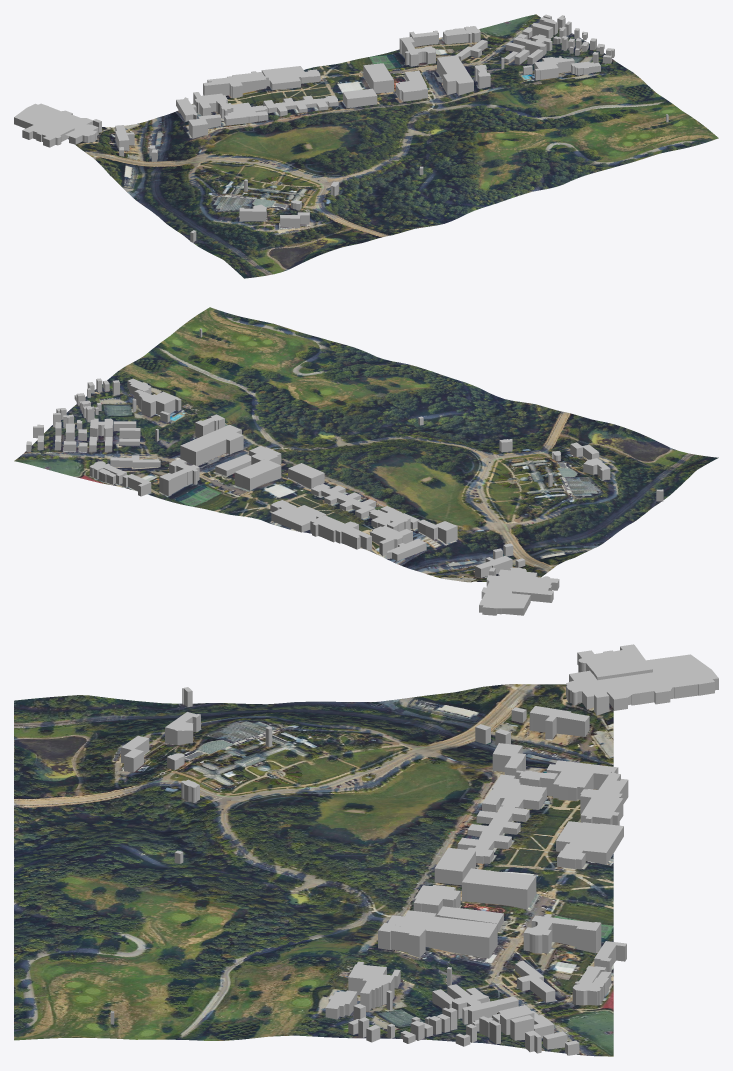
Rendered from schenley_farms.obj.
3 renders of one model, top to bottom at view 1: azimuth 30°, elevation 25°; view 2: azimuth 150°, elevation 25°; view 3: azimuth 270°, elevation 25°, orthographic. The views are drawn at different scales.
Visible parts, largest first — view 1: EXPORT_GOOGLE_SAT_WM, Areas:building; view 2: EXPORT_GOOGLE_SAT_WM, Areas:building; view 3: EXPORT_GOOGLE_SAT_WM, Areas:building.
Boxes of the visible parts, left/top/right/bottom form: EXPORT_GOOGLE_SAT_WM: left=68, top=14, right=718, bottom=278; Areas:building: left=14, top=14, right=668, bottom=242; EXPORT_GOOGLE_SAT_WM: left=14, top=307, right=718, bottom=582; Areas:building: left=26, top=328, right=663, bottom=615; EXPORT_GOOGLE_SAT_WM: left=14, top=684, right=613, bottom=1056; Areas:building: left=110, top=644, right=718, bottom=1055.
Size of the model in its own units: 1489 by 110 by 1078.
